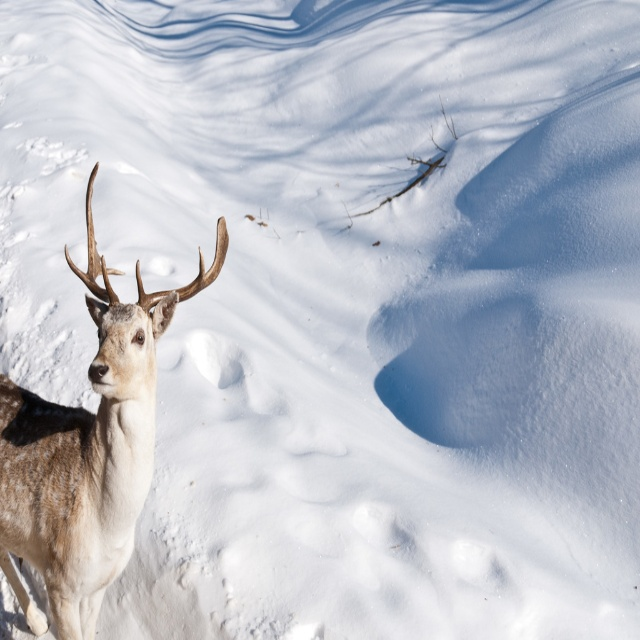Deer: (0, 160, 229, 639)
